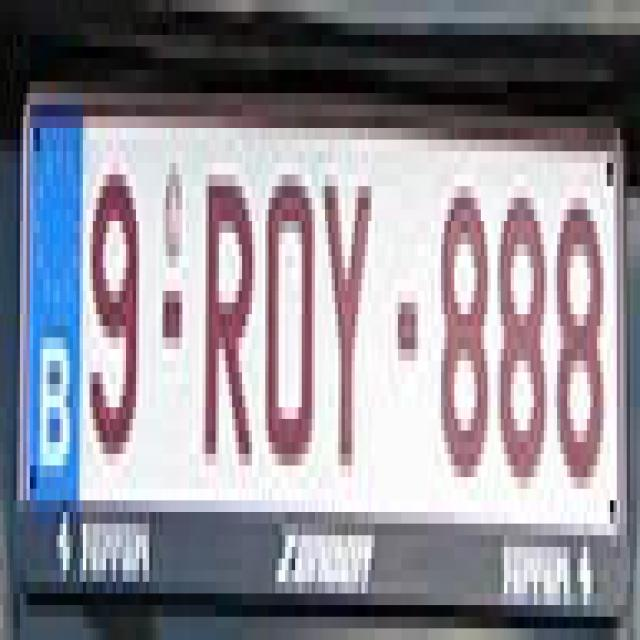Belgique: (26, 111, 79, 516)
EU: (23, 147, 616, 532)
